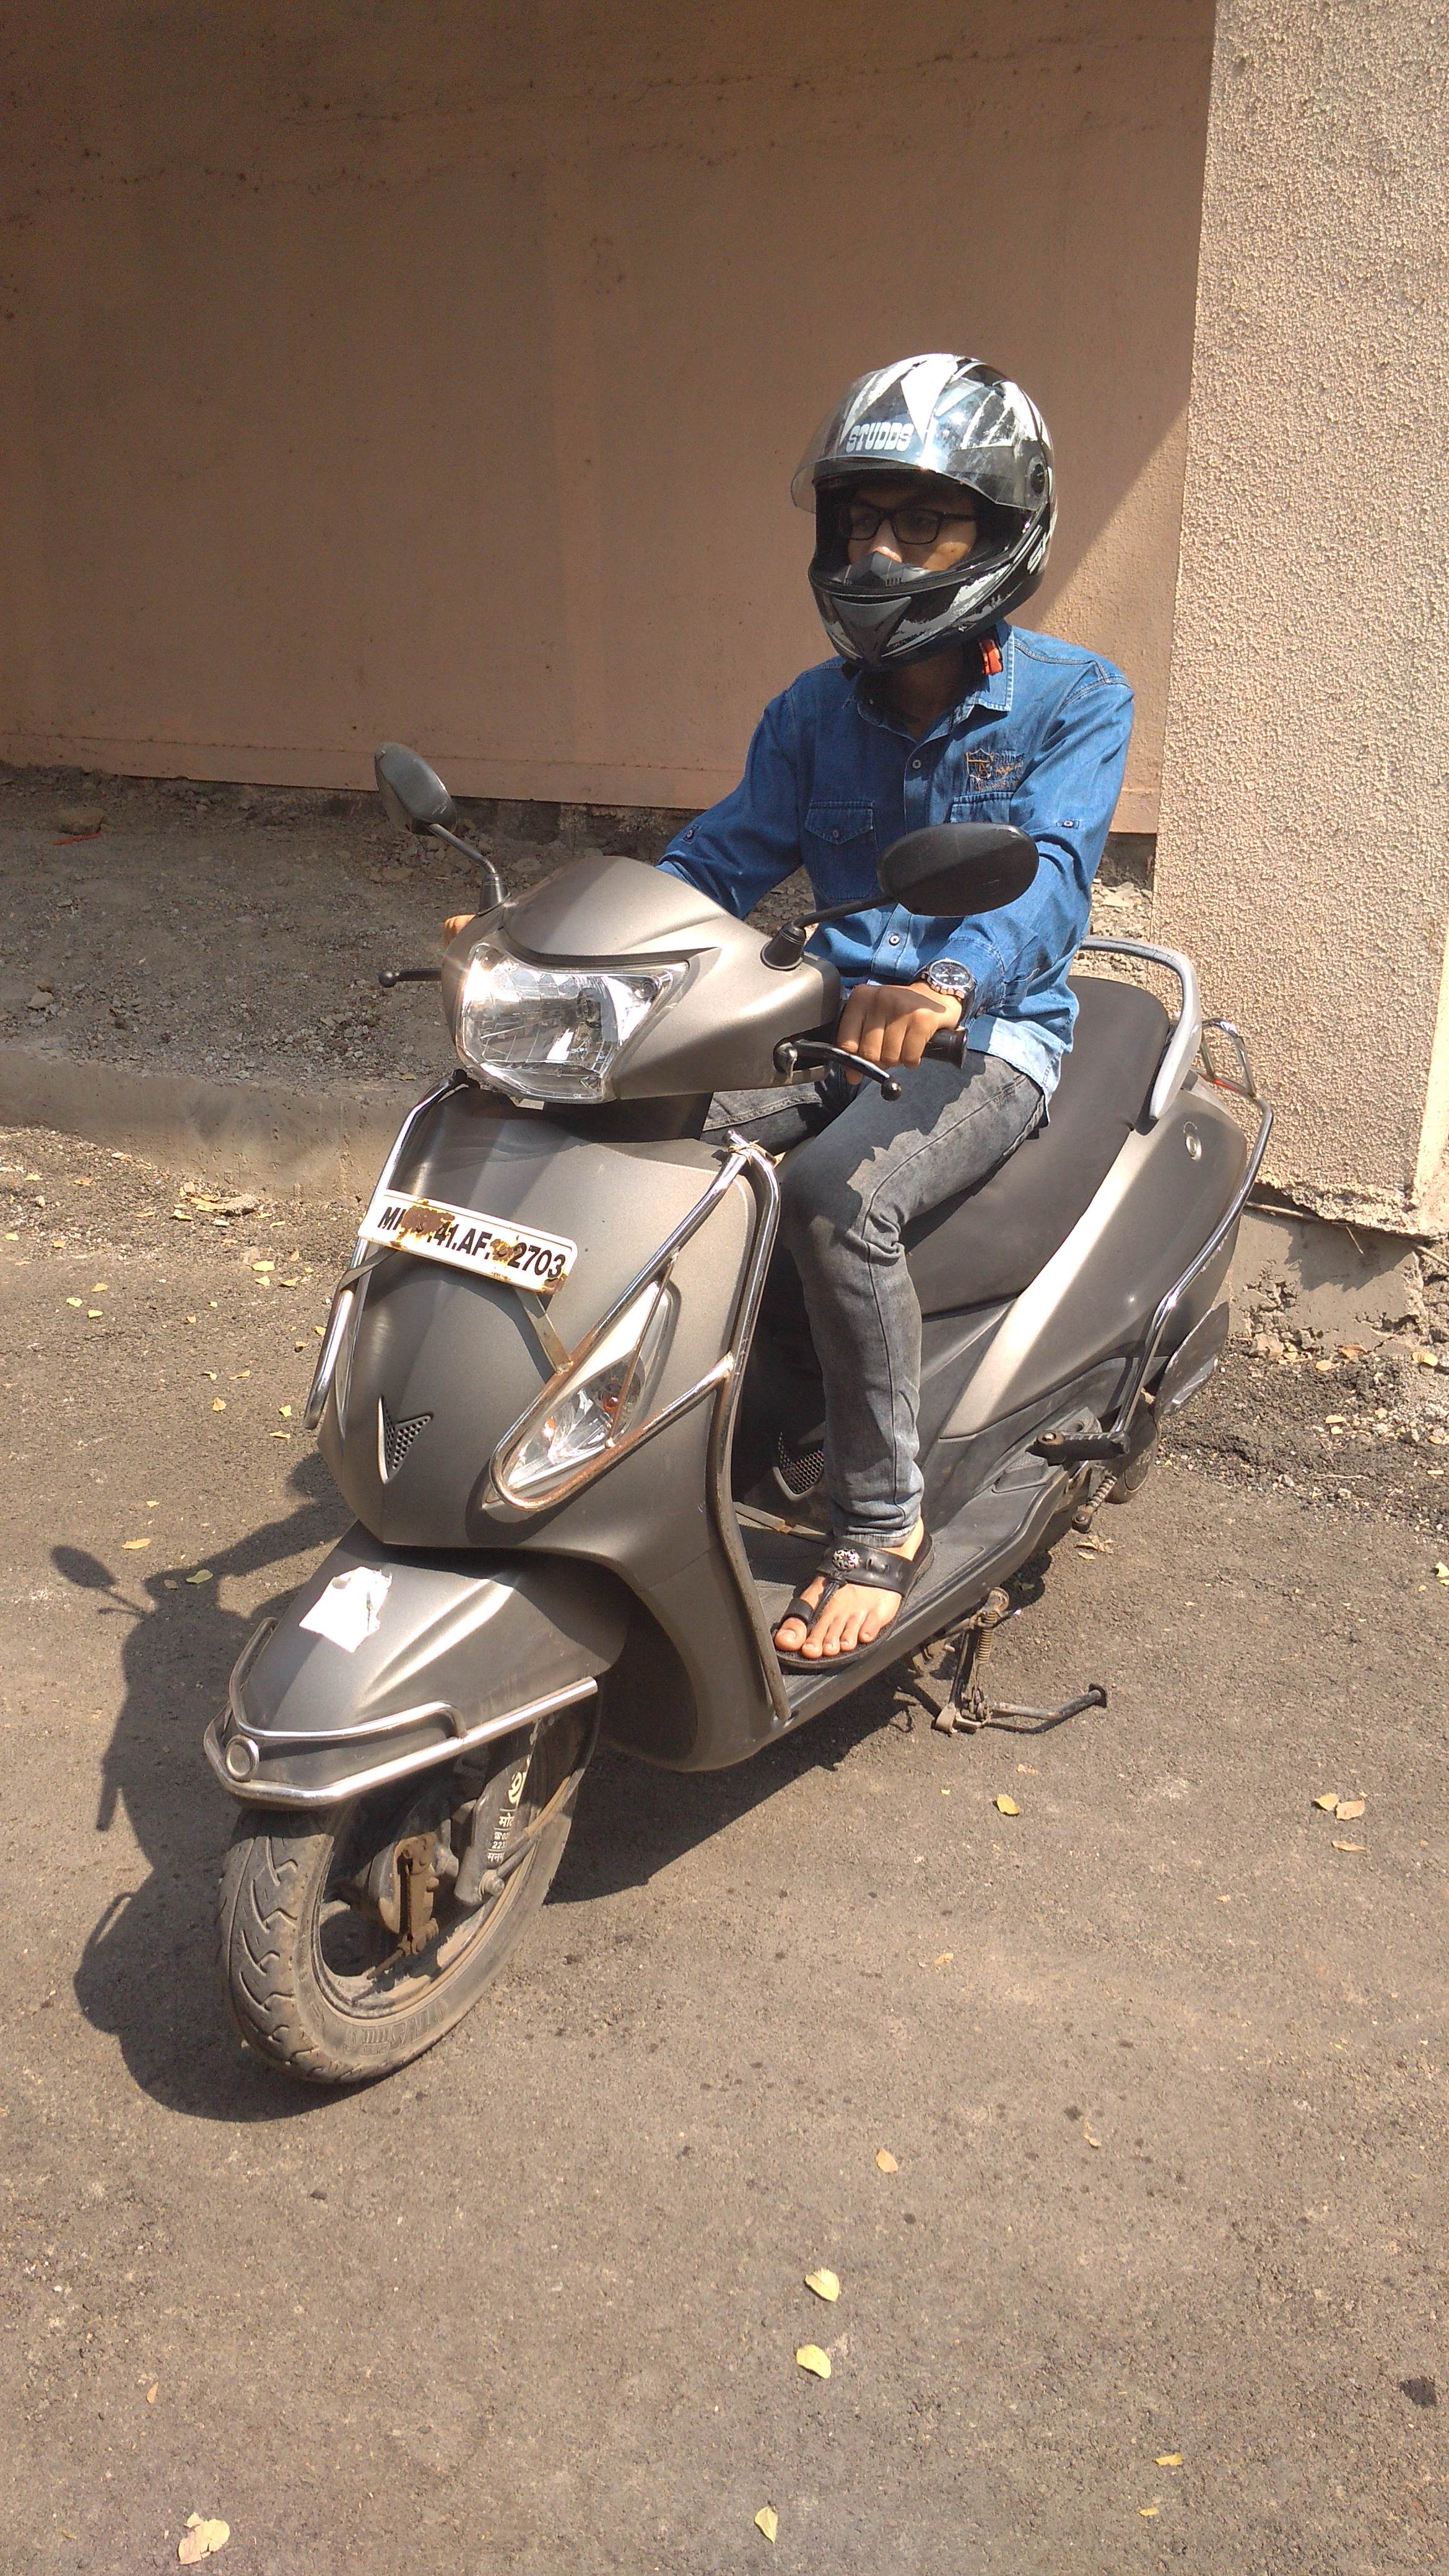helmet: (448, 318, 1125, 1808)
